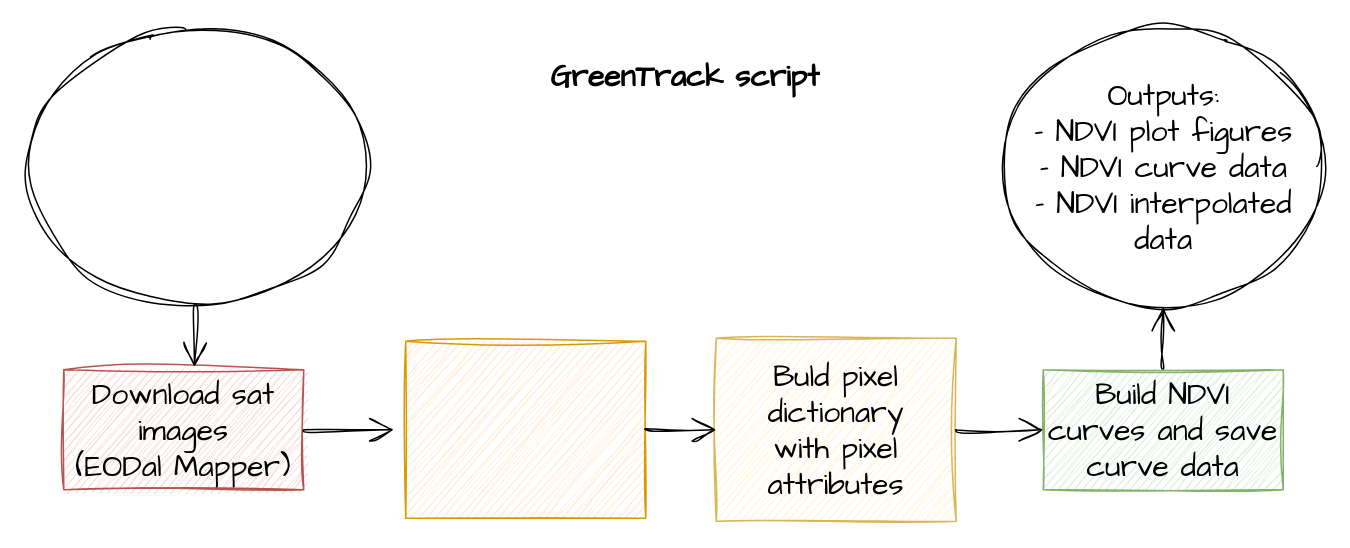
The diagram is 1350 pixels wide and 548 high, and some of its shapes have lost their labels. Here are the shapes that lost their labels. From the top down, the centre of each, then its label:
At (196,165): "Inputs: - ROI shapefile - target dates - target resolution".
At (525,429): "Project on a grid based on bbox and target resolution".
